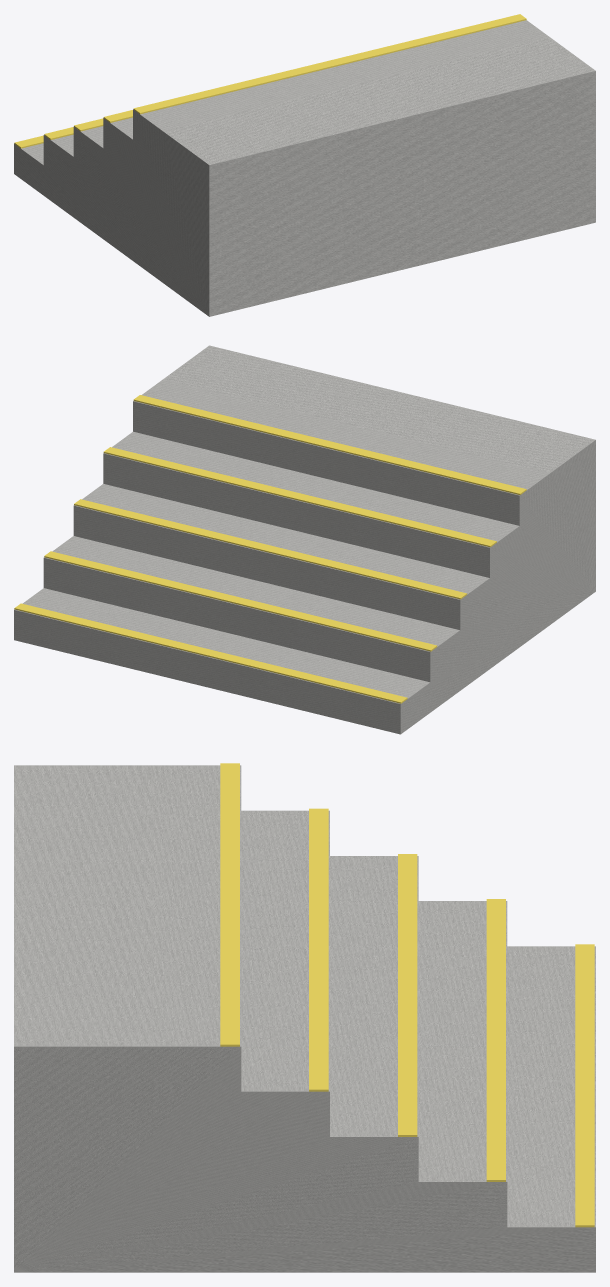
Rendered from skate-park-and-street-sports-concrete-stair-set-five-s-273cca83__33525.glb.
The picture shows the model from 3 angles, top to bottom: view 1: azimuth 30°, elevation 25°; view 2: azimuth 150°, elevation 25°; view 3: azimuth 270°, elevation 25°; orthographic projection. The views are drawn at different scales.
Parts seen in each view (by area): view 1: concrete-stair-set-five-step-concrete, concrete-stair-set-five-step-canary; view 2: concrete-stair-set-five-step-concrete, concrete-stair-set-five-step-canary; view 3: concrete-stair-set-five-step-concrete, concrete-stair-set-five-step-canary.
Part boxes in pixels (box(x1,y1,x2,y2)): concrete-stair-set-five-step-concrete: box(14, 20, 595, 316); concrete-stair-set-five-step-canary: box(14, 14, 526, 148); concrete-stair-set-five-step-concrete: box(14, 345, 595, 734); concrete-stair-set-five-step-canary: box(14, 395, 526, 703); concrete-stair-set-five-step-concrete: box(14, 765, 595, 1272); concrete-stair-set-five-step-canary: box(220, 763, 594, 1227).
Bounding box in the file's own units: 2.4 × 0.9081 × 2.1.
Materials: 2 (1 with a texture image).
